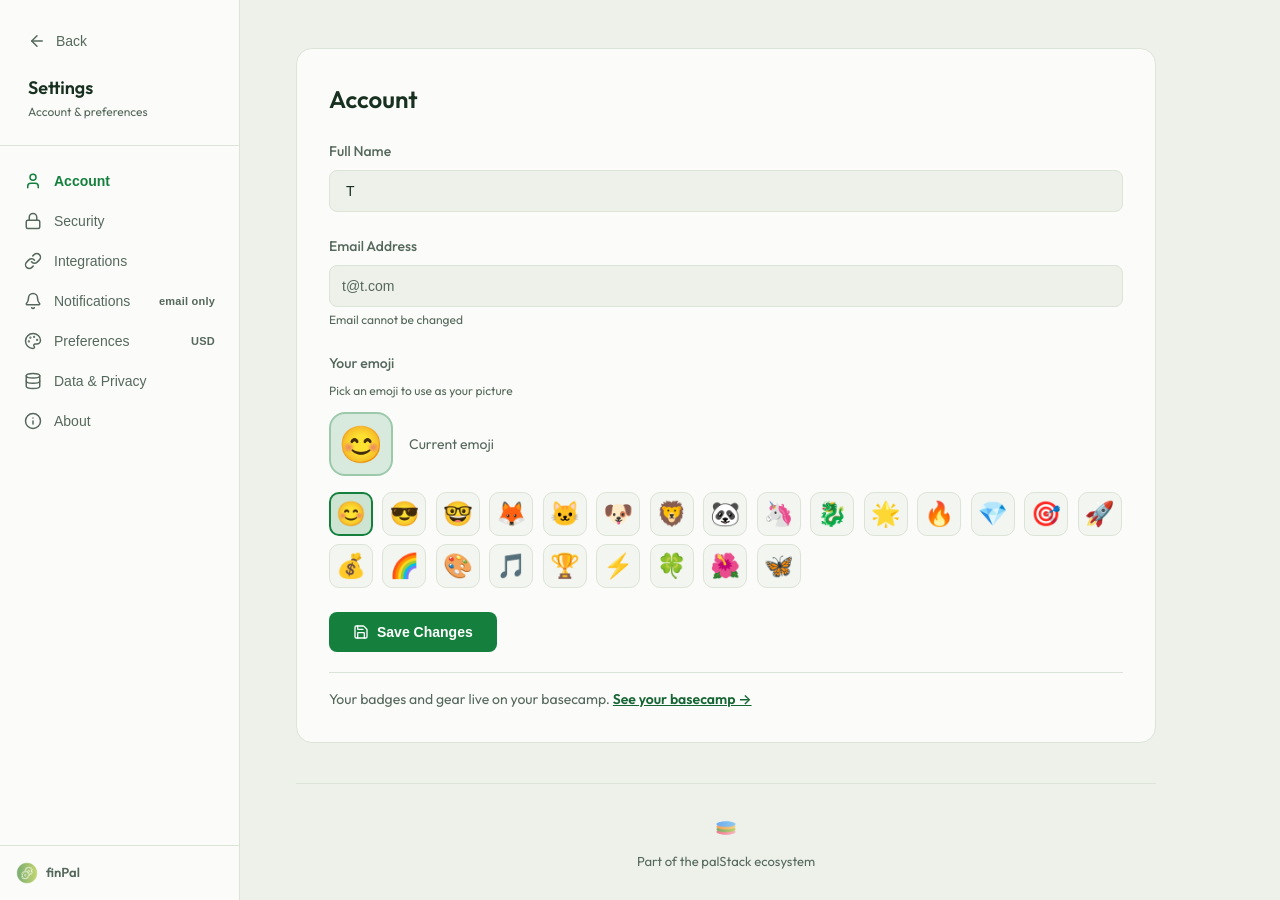
Test: Settings — an error belongs to the form that produced it (#145) › does NOT carry that error onto the Data & Privacy tab
Expected: the text "Security" is shown, [54, 213, 105, 229]
Click the button "Security". click: (120, 221)
box: [12, 202, 227, 240]
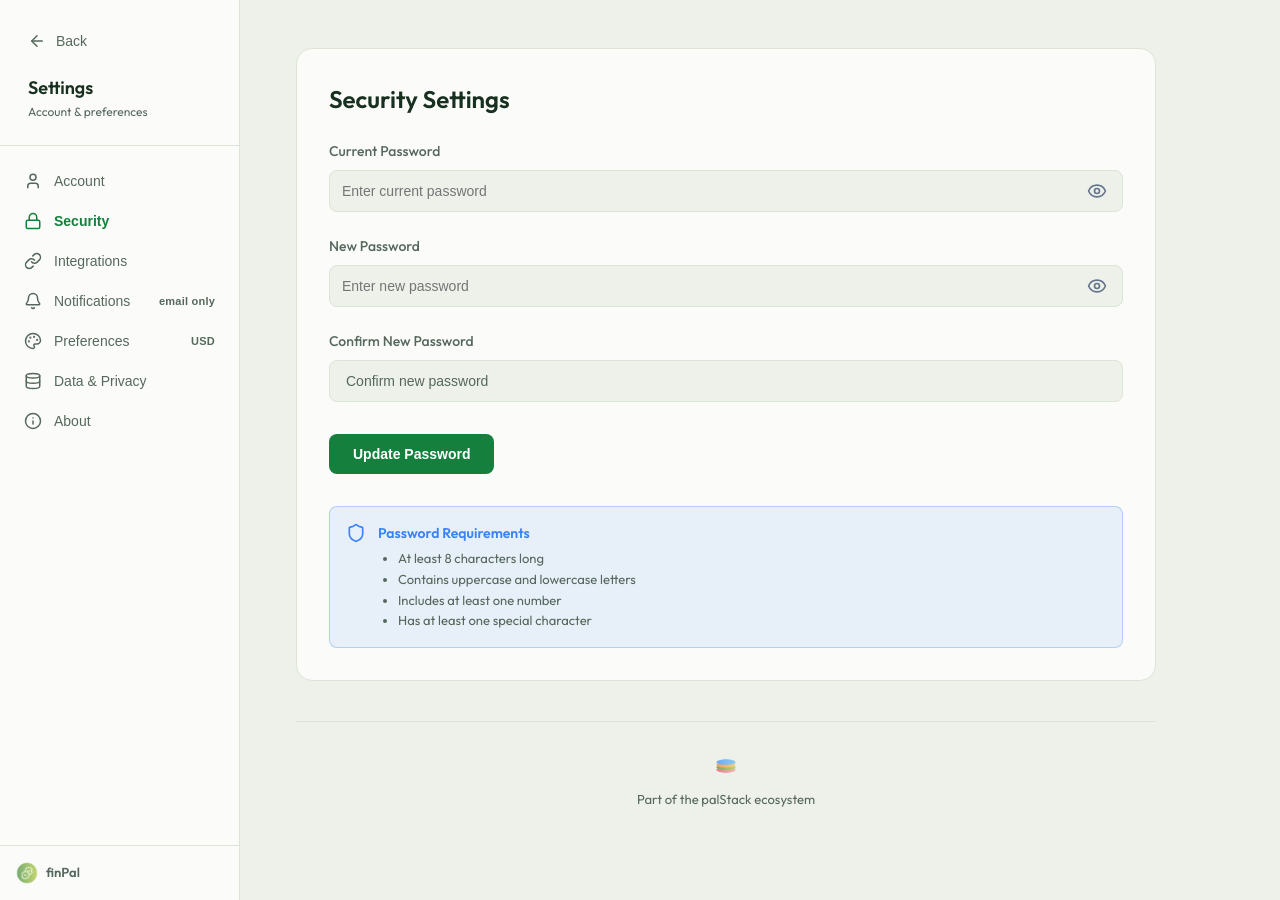
Type "whatever" into the password field with placeholder "Enter current password". click: (726, 191)
box: [329, 170, 1123, 212]
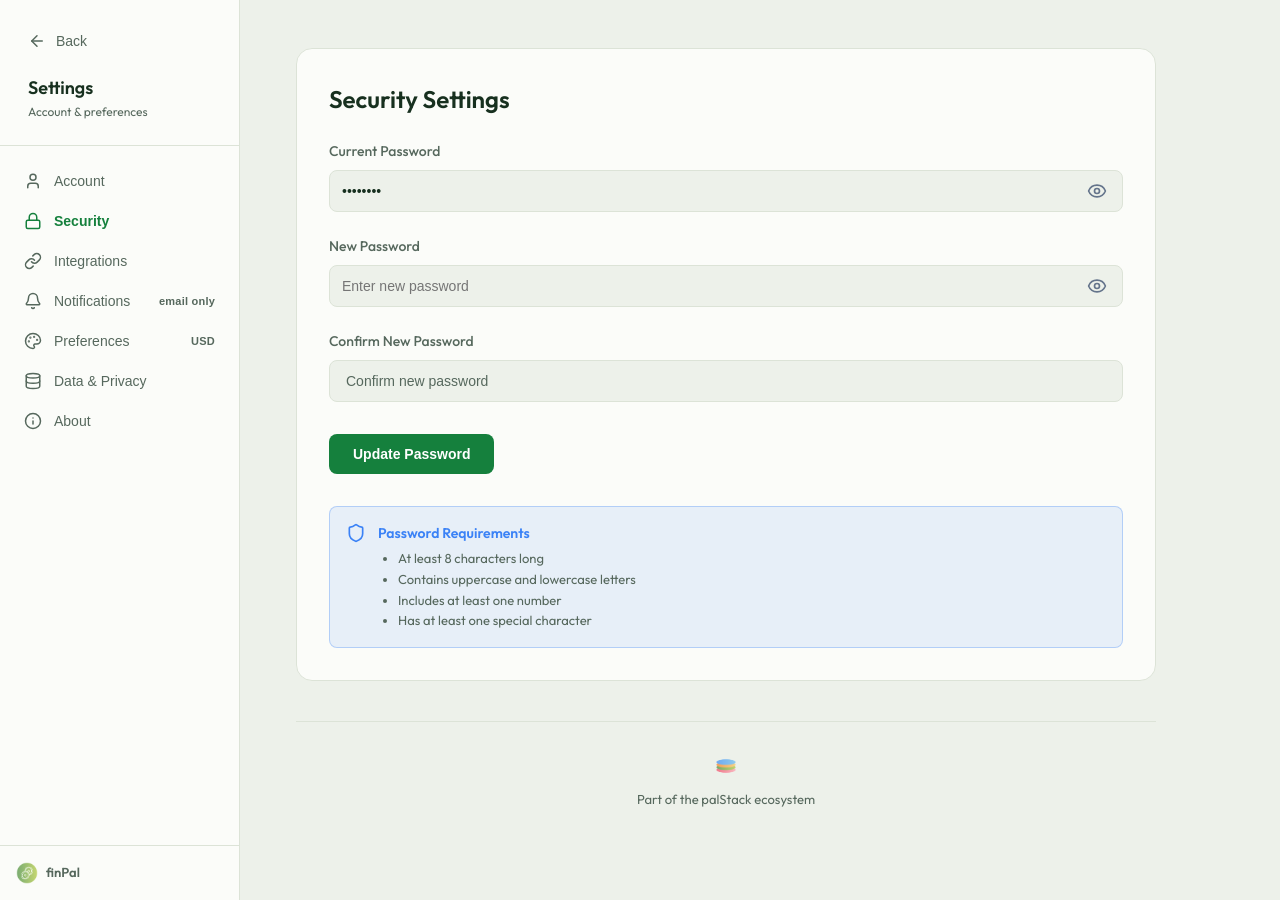
Type "newpassword123" into the password field with placeholder "Enter new password". click: (726, 286)
box: [329, 265, 1123, 307]
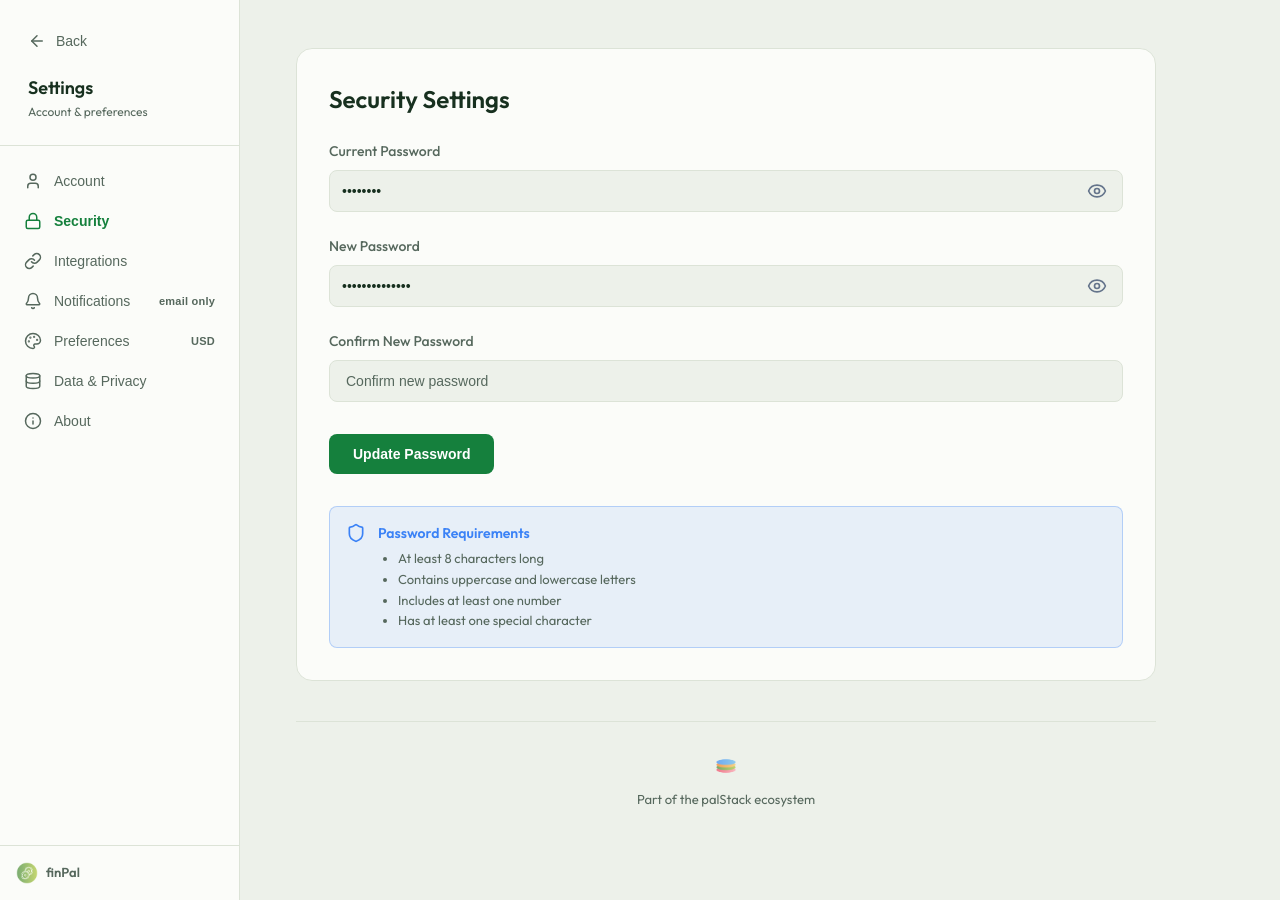
Type "DIFFERENT-password" into the password field with placeholder "Confirm new password". click: (726, 381)
box: [329, 360, 1123, 402]
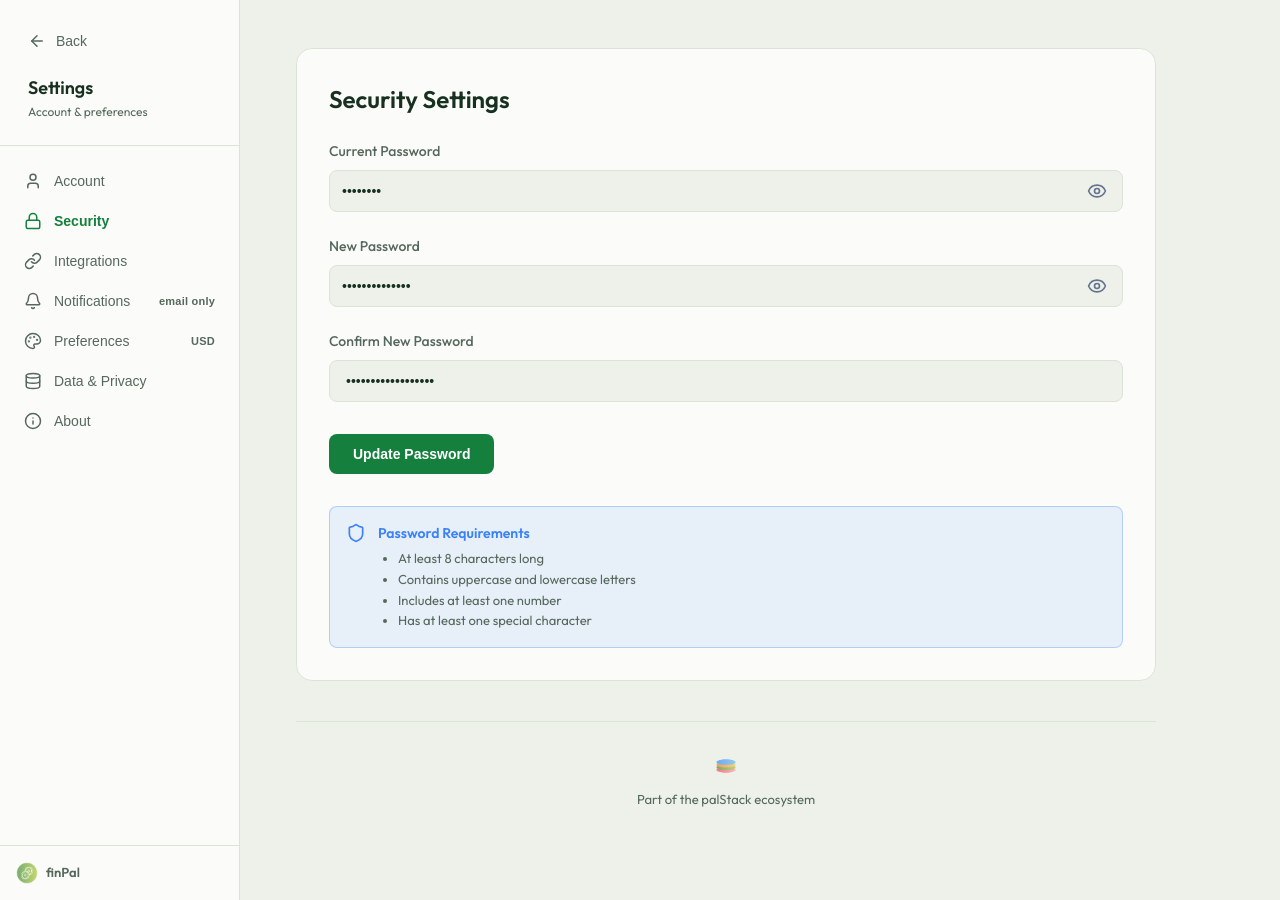
Click the button "Update Password". click: (412, 454)
box: [329, 434, 494, 474]
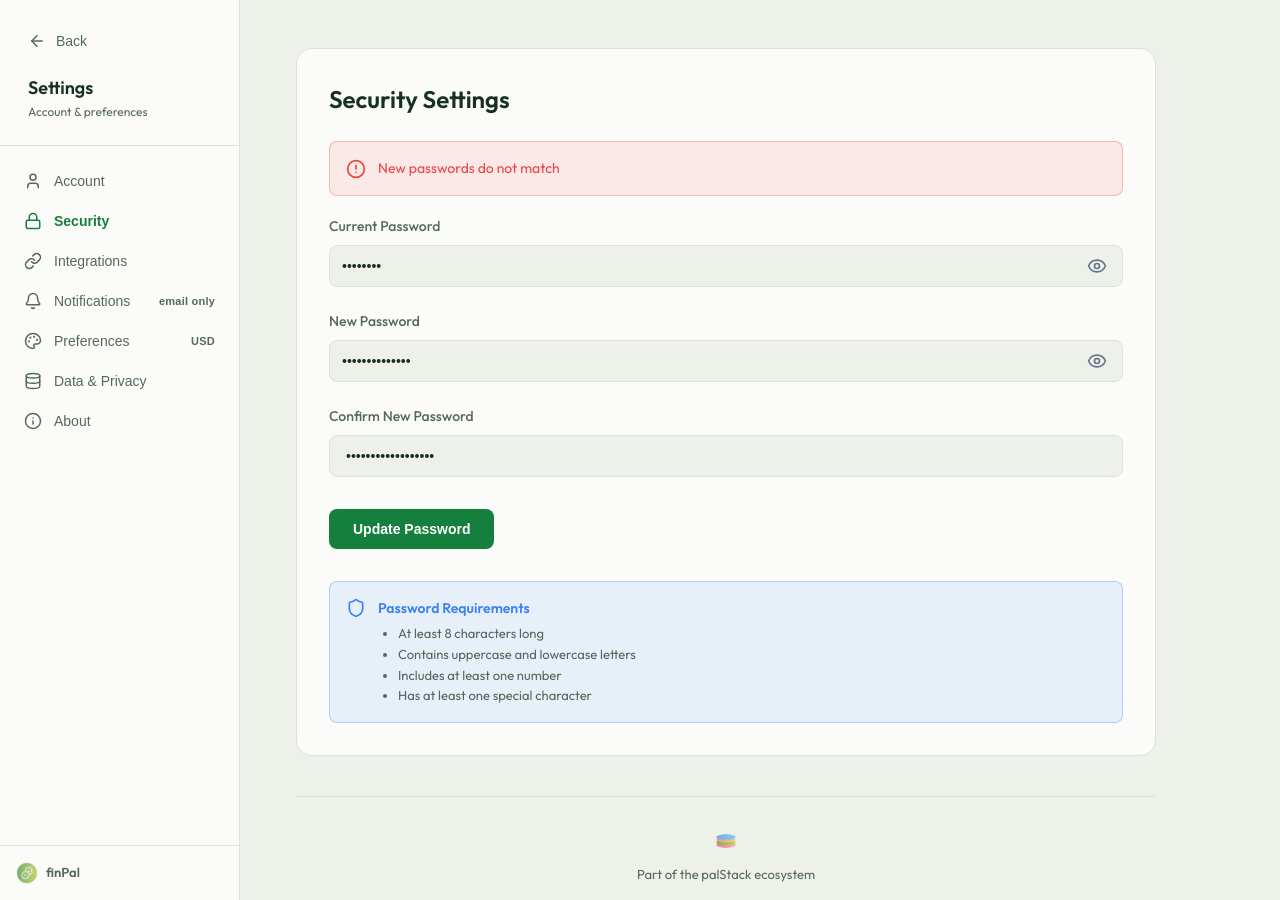
Expected: the text "Data & Privacy" is shown, [54, 373, 147, 389]
Now the text "New passwords do not match" is shown, box [378, 158, 560, 179]
Click the button "Data & Privacy". click: (120, 381)
box: [12, 362, 227, 400]
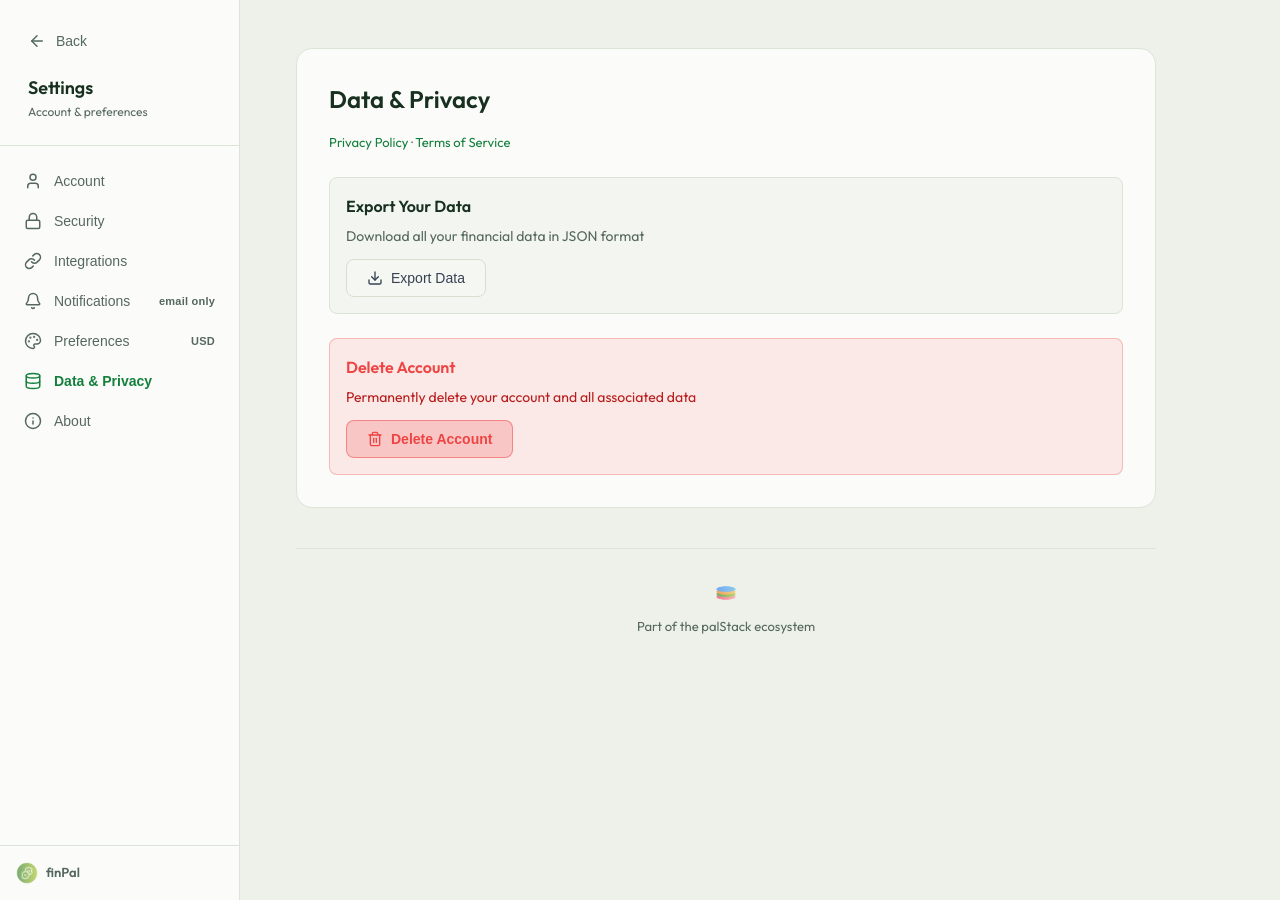
Now the text "passwords do not match" is gone
